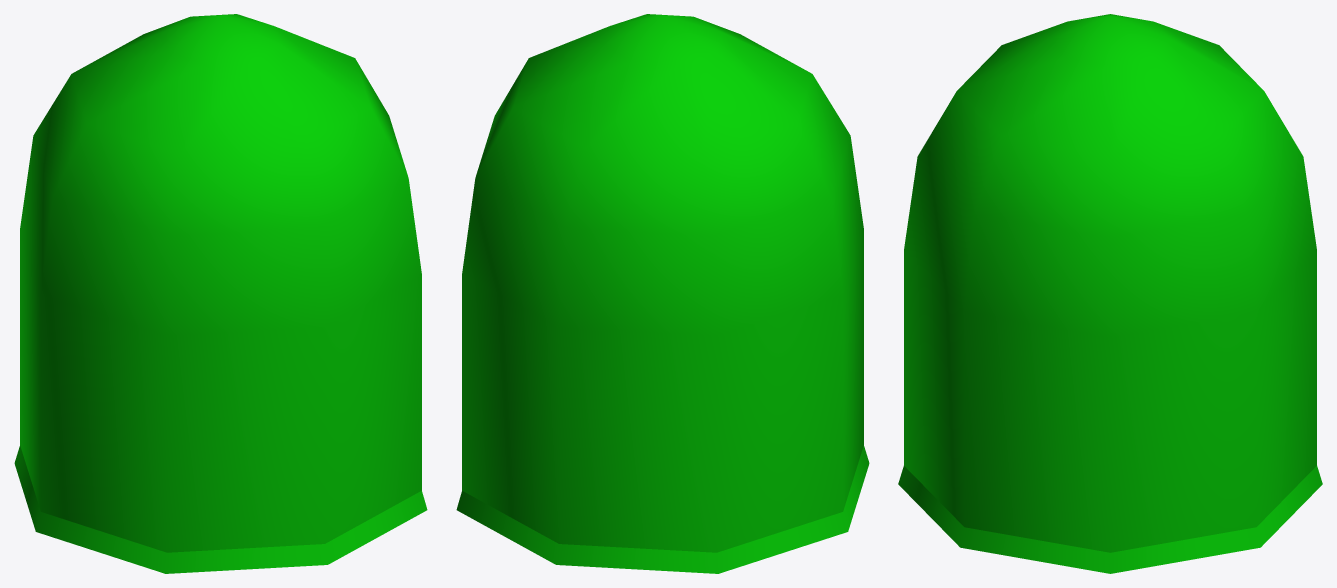
Rendered from hill.FBX.
3 views of the same model, side by side, from view 1: azimuth 30°, elevation 25°; view 2: azimuth 150°, elevation 25°; view 3: azimuth 270°, elevation 25° (orthographic).
Parts seen in each view (by area): view 1: Cylinder002; view 2: Cylinder002; view 3: Cylinder002.
Part boxes in pixels (x1,y1,x2,y2): Cylinder002: (14,14,427,573); Cylinder002: (456,14,869,573); Cylinder002: (898,14,1322,573).
Bounding box in the file's own units: 411 × 500 × 411.
